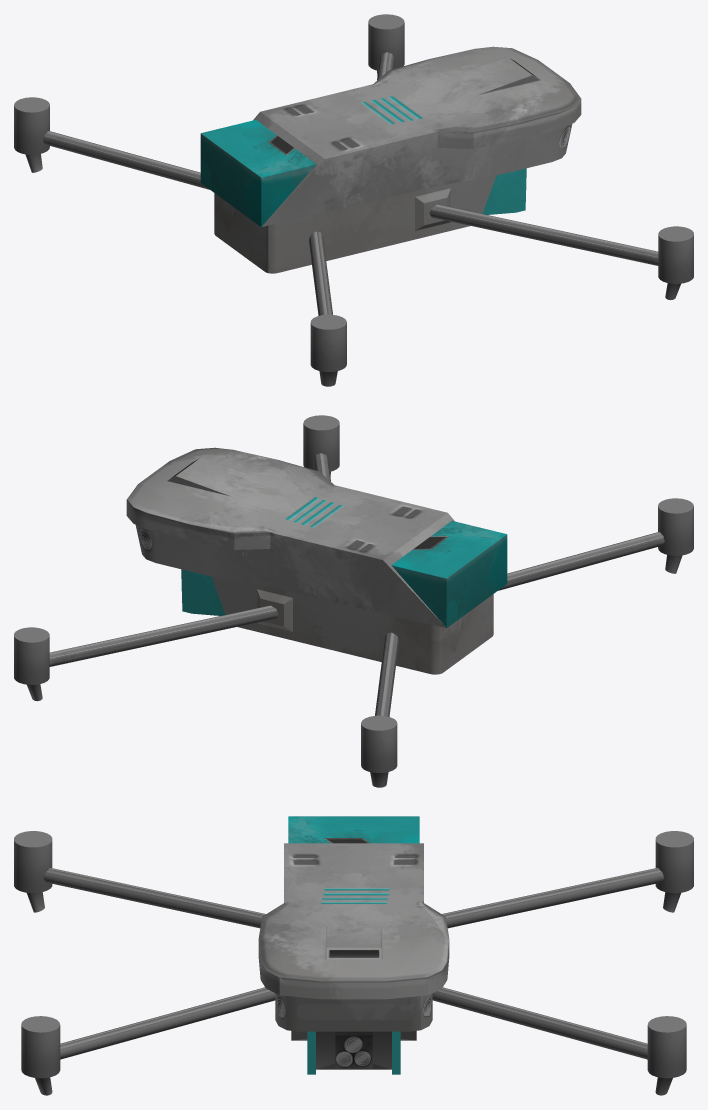
Rendered from BgMD_Drone_01.fbx.
3 views of the same model, one above another, from view 1: azimuth 30°, elevation 25°; view 2: azimuth 150°, elevation 25°; view 3: azimuth 270°, elevation 25° (orthographic). The views are drawn at different scales.
Visible parts, largest first — view 1: pCube22; view 2: pCube22; view 3: pCube22.
Part boxes in pixels (x1,y1,x2,y2): pCube22: [14, 14, 693, 386]; pCube22: [14, 415, 693, 787]; pCube22: [14, 816, 693, 1095].
Bounding box in the file's own units: 37.37 × 11.94 × 52.3.
Materials: 1 (1 with a texture image).
